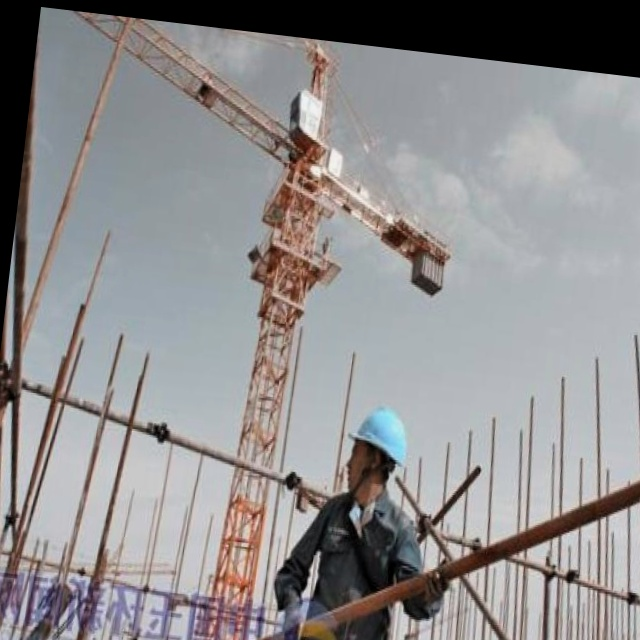Con_Casco: (341, 405, 409, 500)
